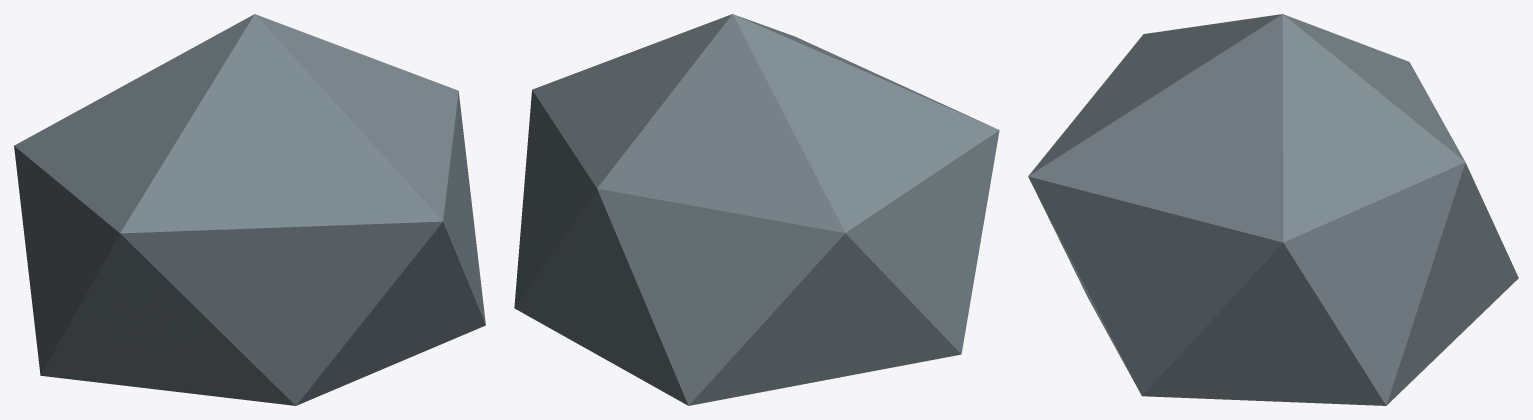
Rendered from river-stone-angular.glb.
The picture shows the model from 3 angles, left to right: view 1: azimuth 30°, elevation 25°; view 2: azimuth 150°, elevation 25°; view 3: azimuth 270°, elevation 25°; orthographic projection. The views are drawn at different scales.
Visible parts, largest first — view 1: AngularRiverStone; view 2: AngularRiverStone; view 3: AngularRiverStone.
Part boxes in pixels (x1=…): AngularRiverStone: x1=14, y1=14, x2=485, y2=405; AngularRiverStone: x1=514, y1=14, x2=999, y2=405; AngularRiverStone: x1=1028, y1=14, x2=1518, y2=405.
Size of the model in its own units: 0.3969 by 0.2726 by 0.3902.
